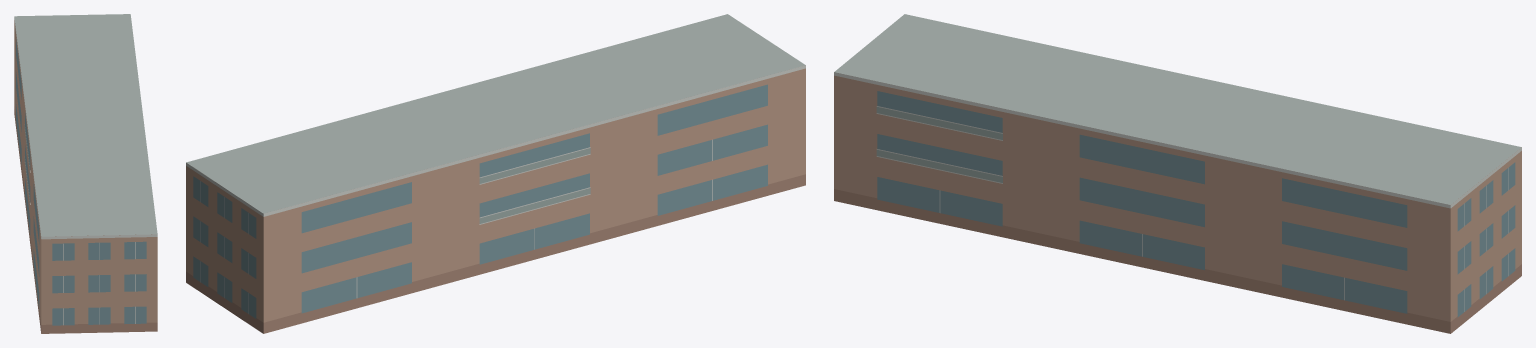
The model's file is survey-upis-32720039.glb.
3 views of the same model, side by side, from view 1: azimuth 30°, elevation 25°; view 2: azimuth 150°, elevation 25°; view 3: azimuth 270°, elevation 25° (orthographic). The views are drawn at different scales.
Visible parts, largest first — view 1: survey-upis-32720039.tmp; view 2: survey-upis-32720039.tmp; view 3: survey-upis-32720039.tmp.
Part boxes in pixels (x1,y1,x2,y2): survey-upis-32720039.tmp: (14, 14, 157, 333); survey-upis-32720039.tmp: (186, 14, 805, 333); survey-upis-32720039.tmp: (834, 14, 1521, 333).
Size of the model in its own units: 29.11 by 9.15 by 44.27.
